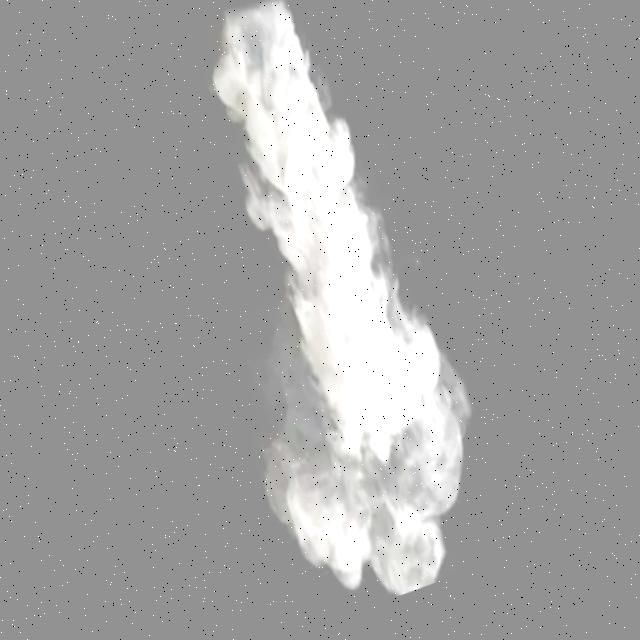Smoke: (149, 0, 500, 629)
